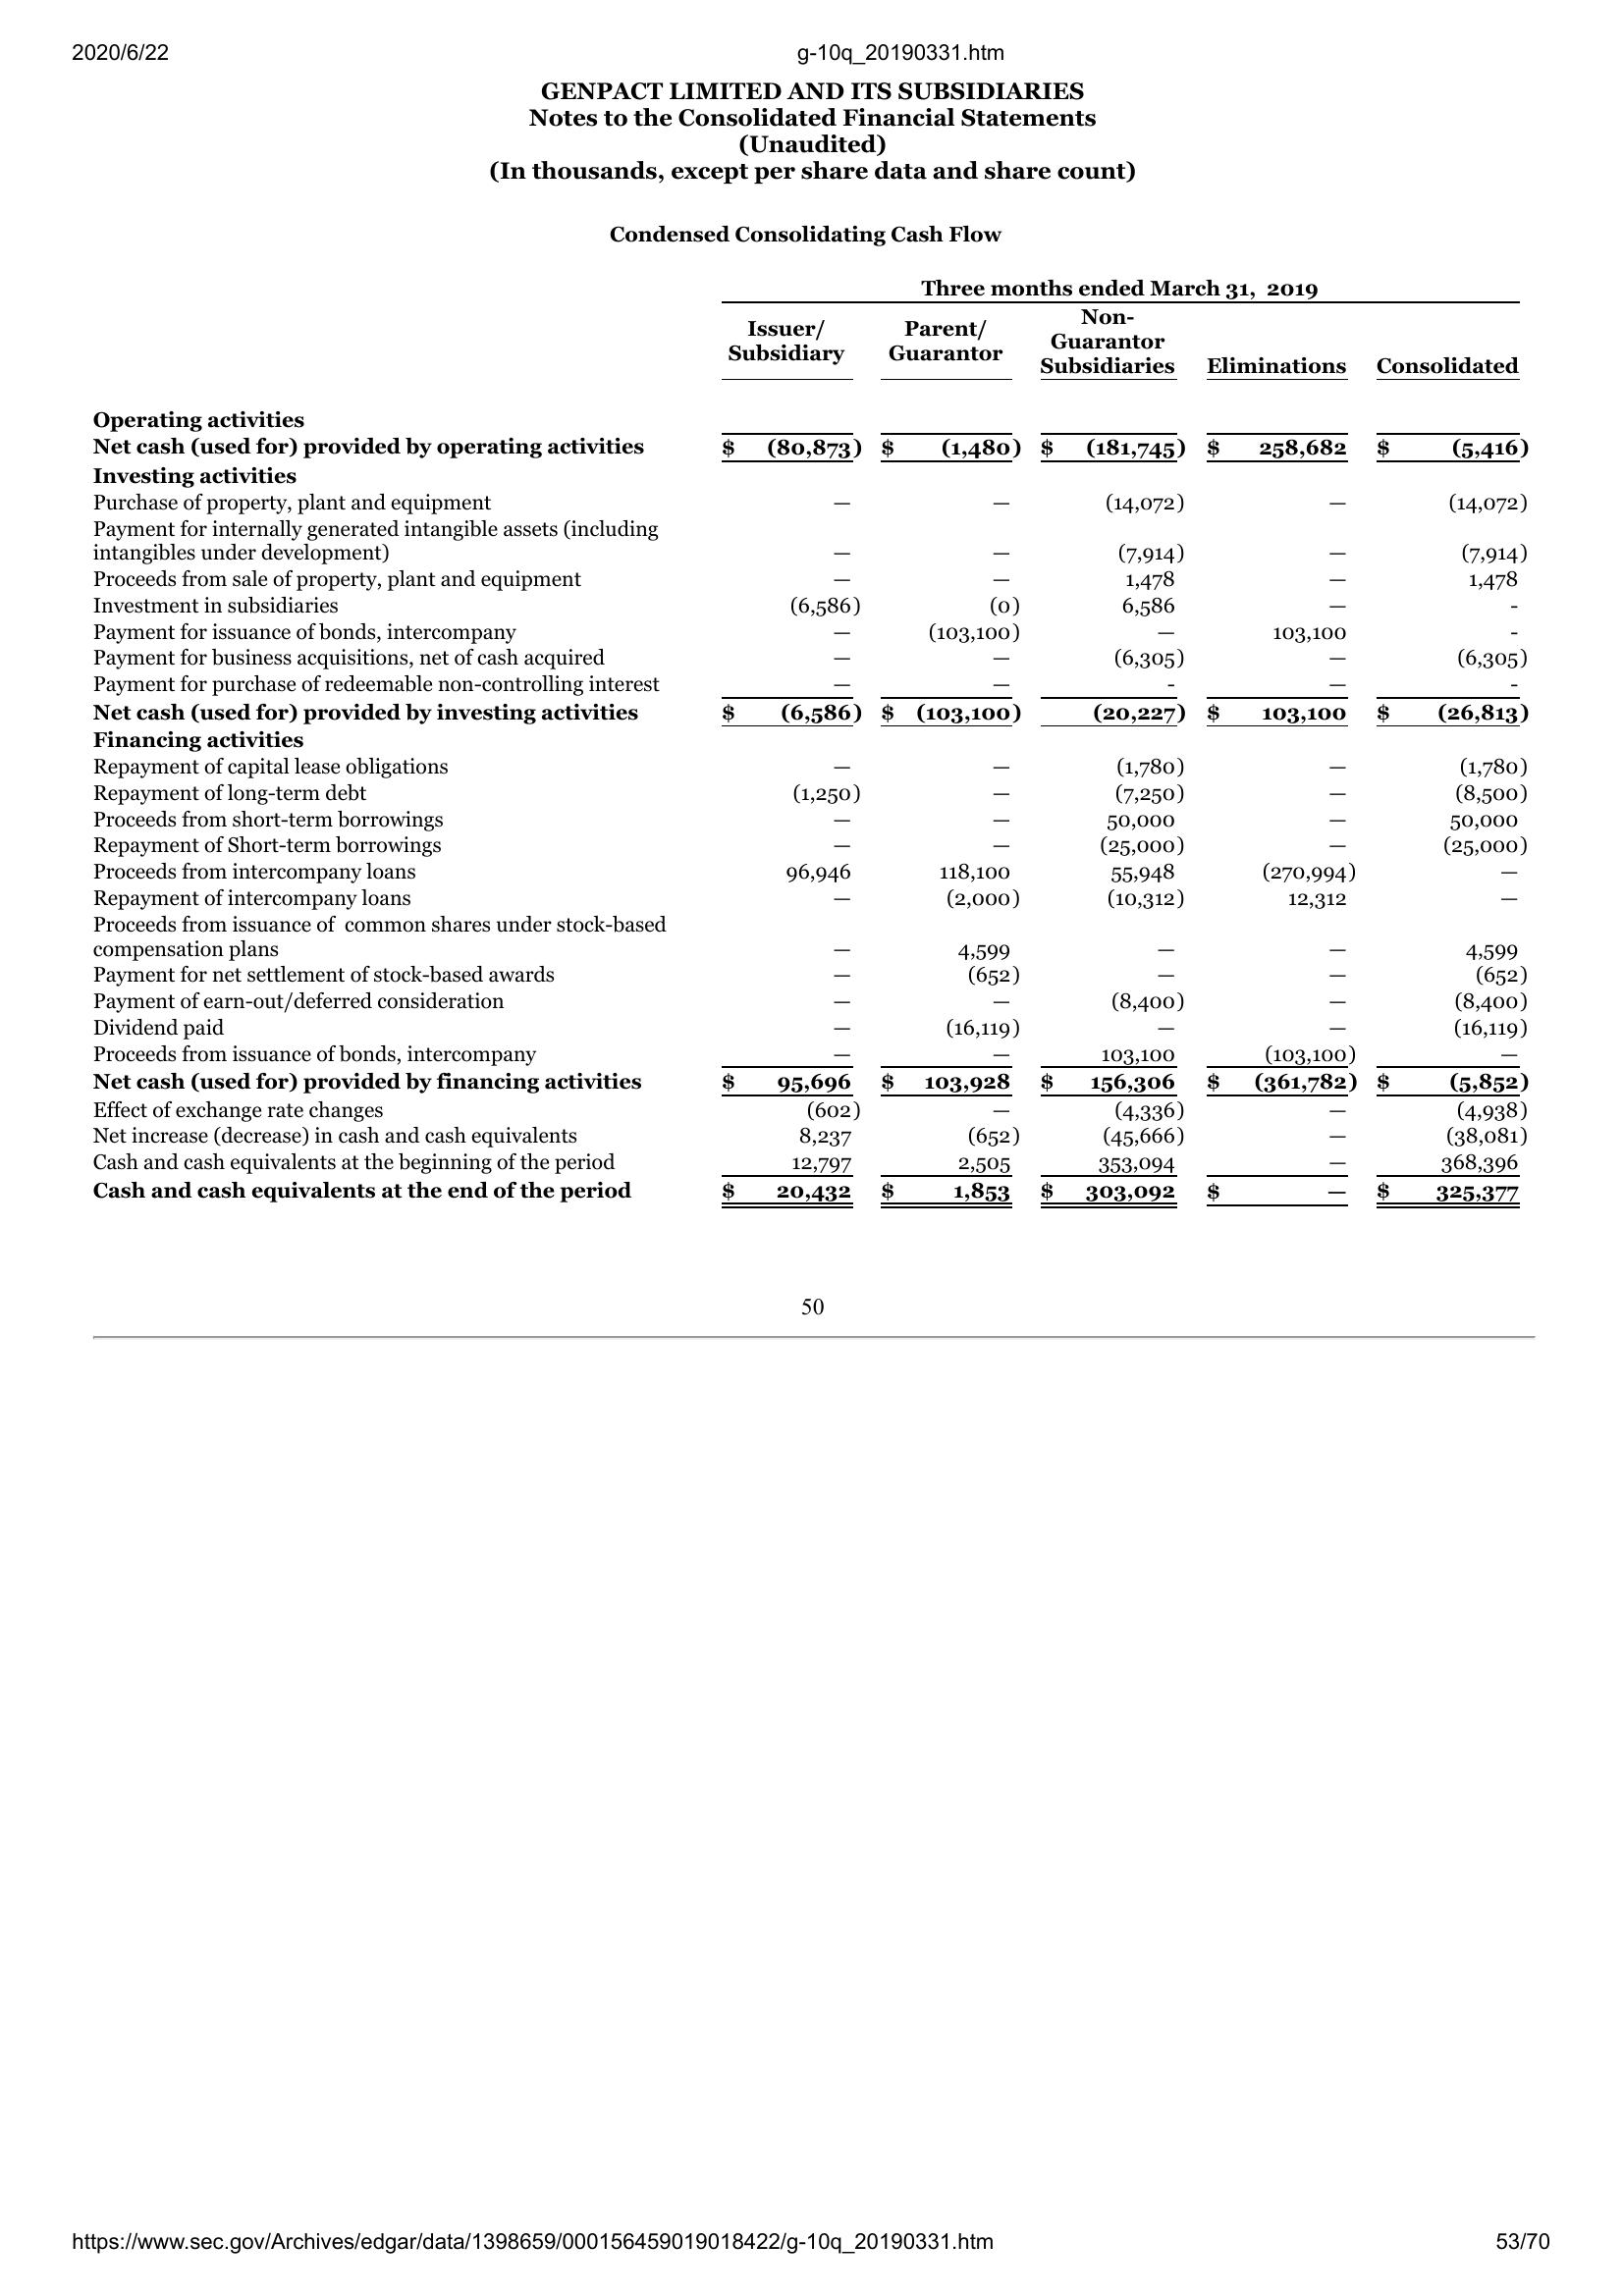table: (84, 276, 1530, 1215)
